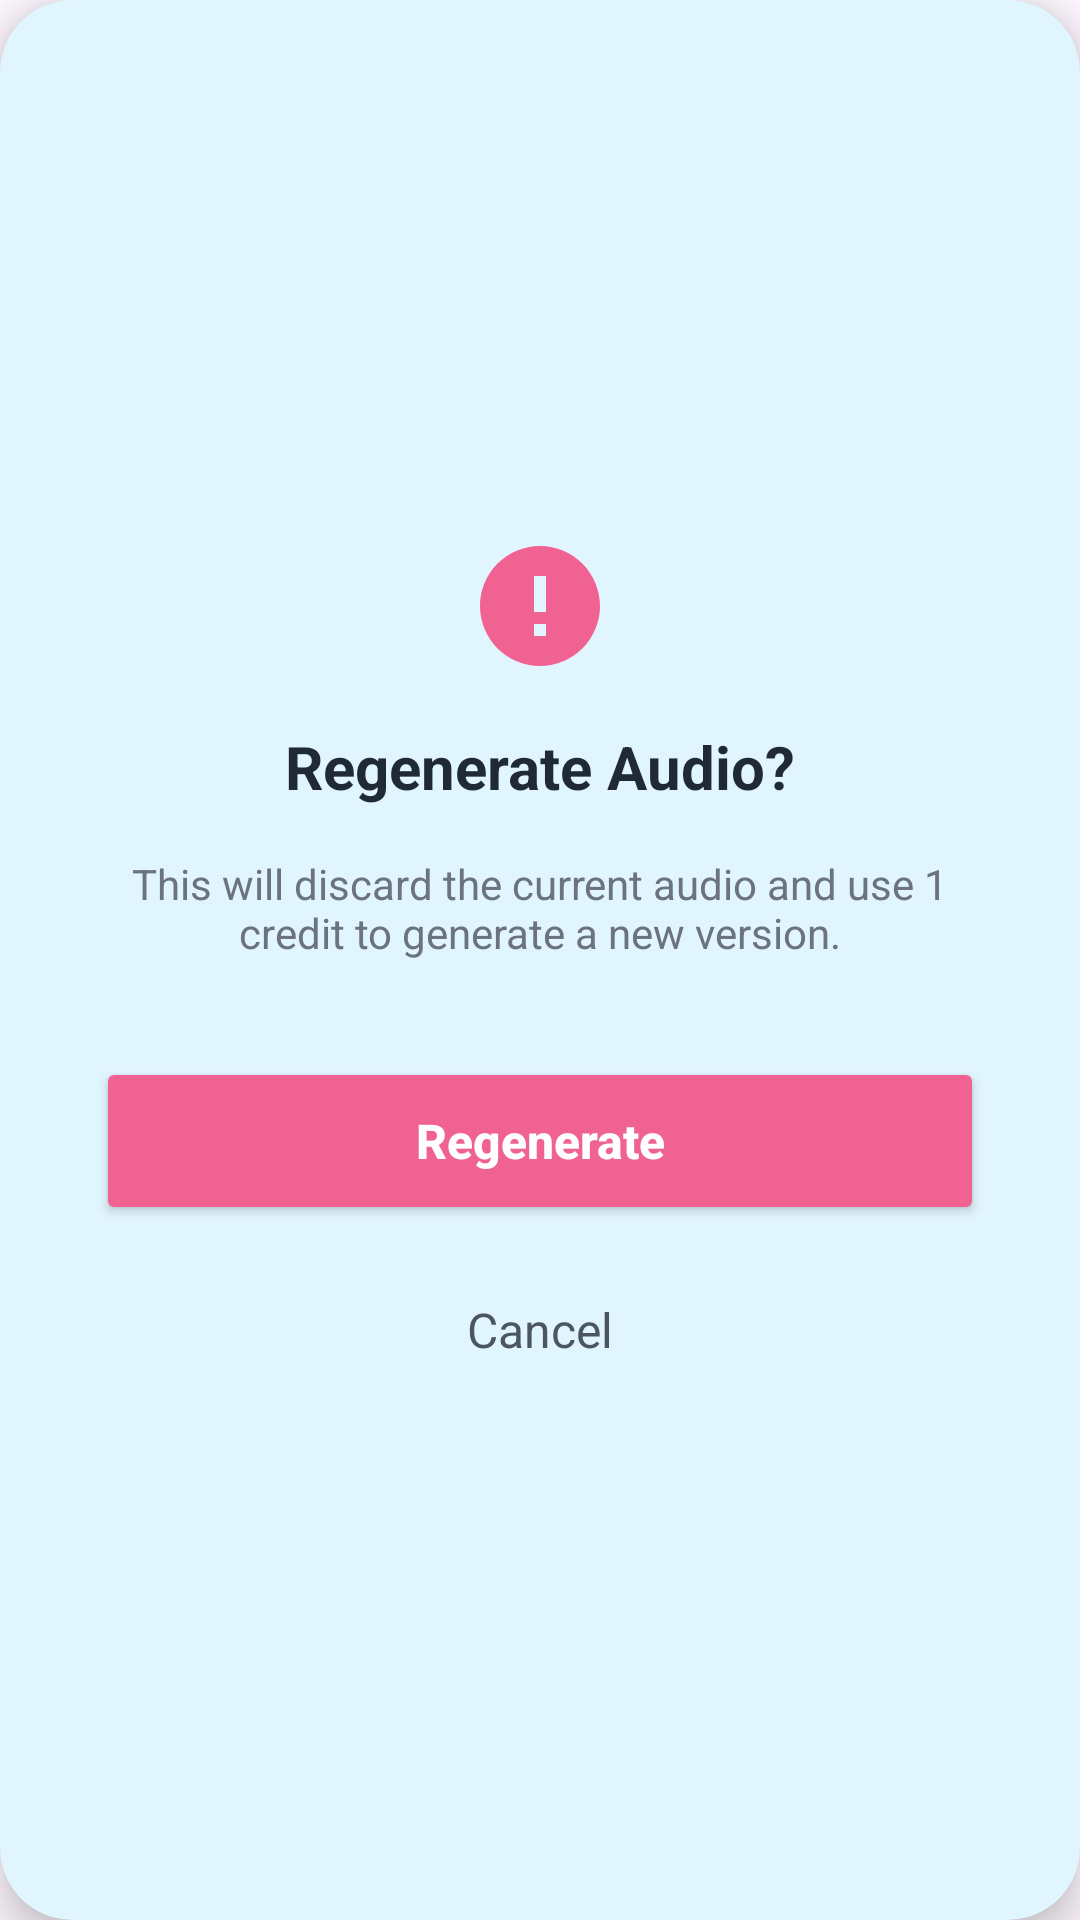

Where to tap for icons on this 1080px x 1920px app screen, as [x,y]:
alert circle: [540,606]
